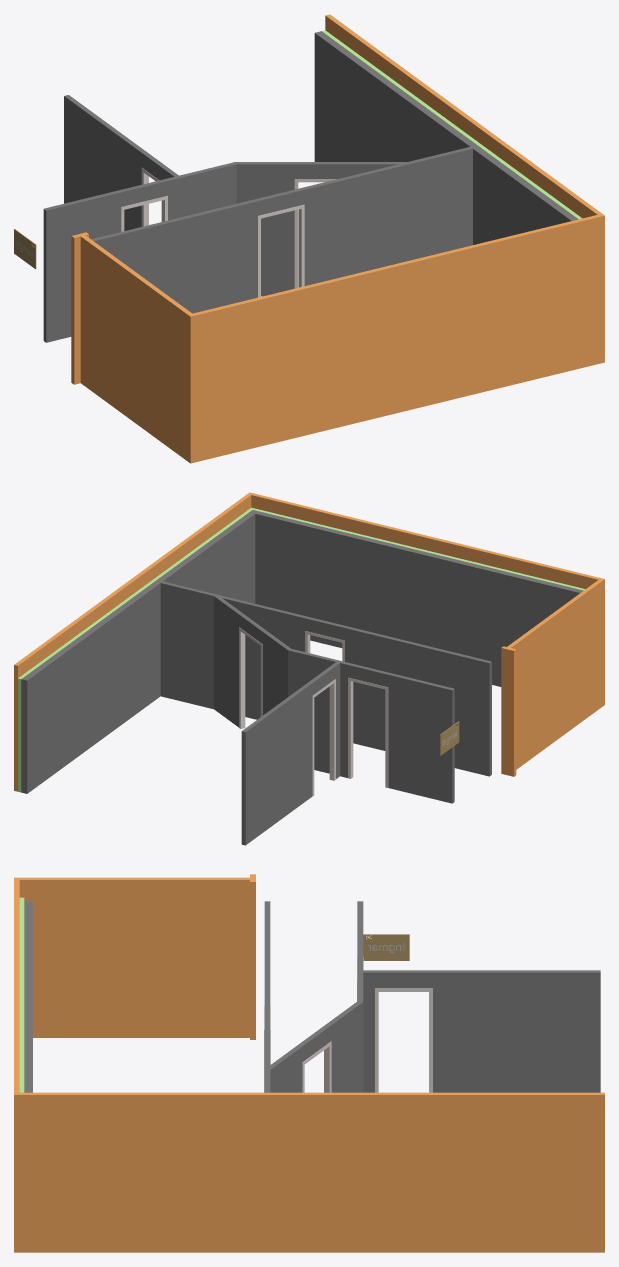
3 views of the same model, one above another, from view 1: azimuth 30°, elevation 25°; view 2: azimuth 150°, elevation 25°; view 3: azimuth 270°, elevation 25° (orthographic). The views are drawn at different scales.
Visible parts, largest first — view 1: Walls, Rectangular Mullion, Walls.001; view 2: Walls, Rectangular Mullion; view 3: Walls, Rectangular Mullion, Walls.001.
Boxes of the visible parts, x1,y1,x2,y2 form: Walls: [43, 14, 604, 463]; Rectangular Mullion: [121, 168, 337, 297]; Walls.001: [14, 229, 36, 269]; Walls: [14, 492, 604, 845]; Rectangular Mullion: [239, 627, 388, 796]; Walls: [14, 874, 604, 1252]; Rectangular Mullion: [264, 957, 432, 1092]; Walls.001: [363, 934, 409, 960].
Bounding box in the file's own units: 9 × 3 × 10.18.
